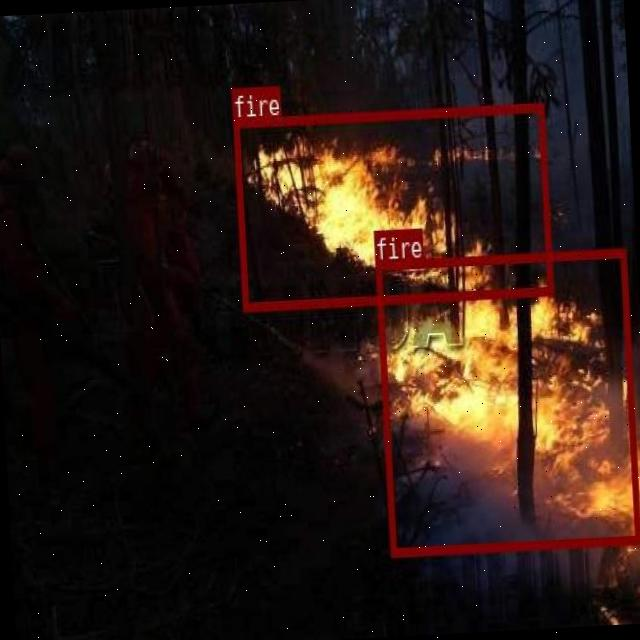fire: (375, 247, 640, 556), (232, 103, 552, 309)
